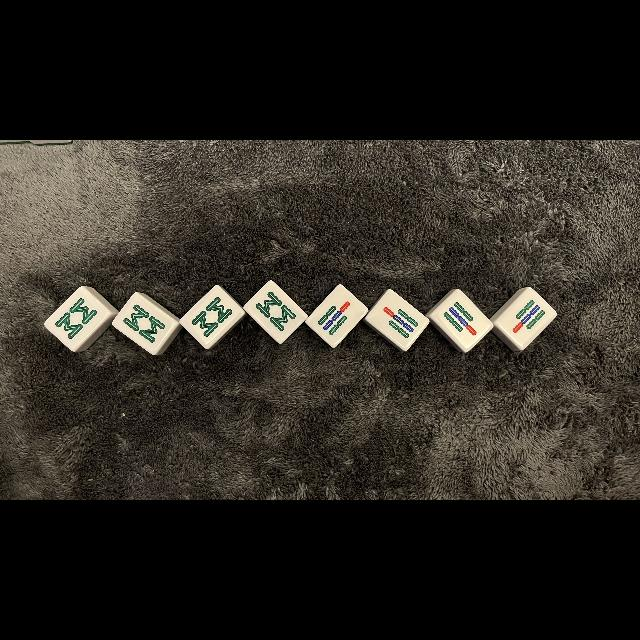b7: (374, 298, 424, 342), (312, 294, 358, 340), (440, 297, 484, 345), (506, 294, 548, 340)
b8: (117, 299, 171, 345), (52, 294, 98, 344), (252, 288, 298, 334), (188, 294, 236, 338)
